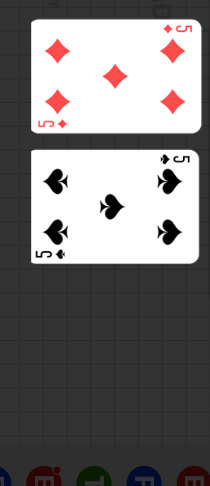5S: (158, 153, 191, 166), (34, 248, 67, 260)
